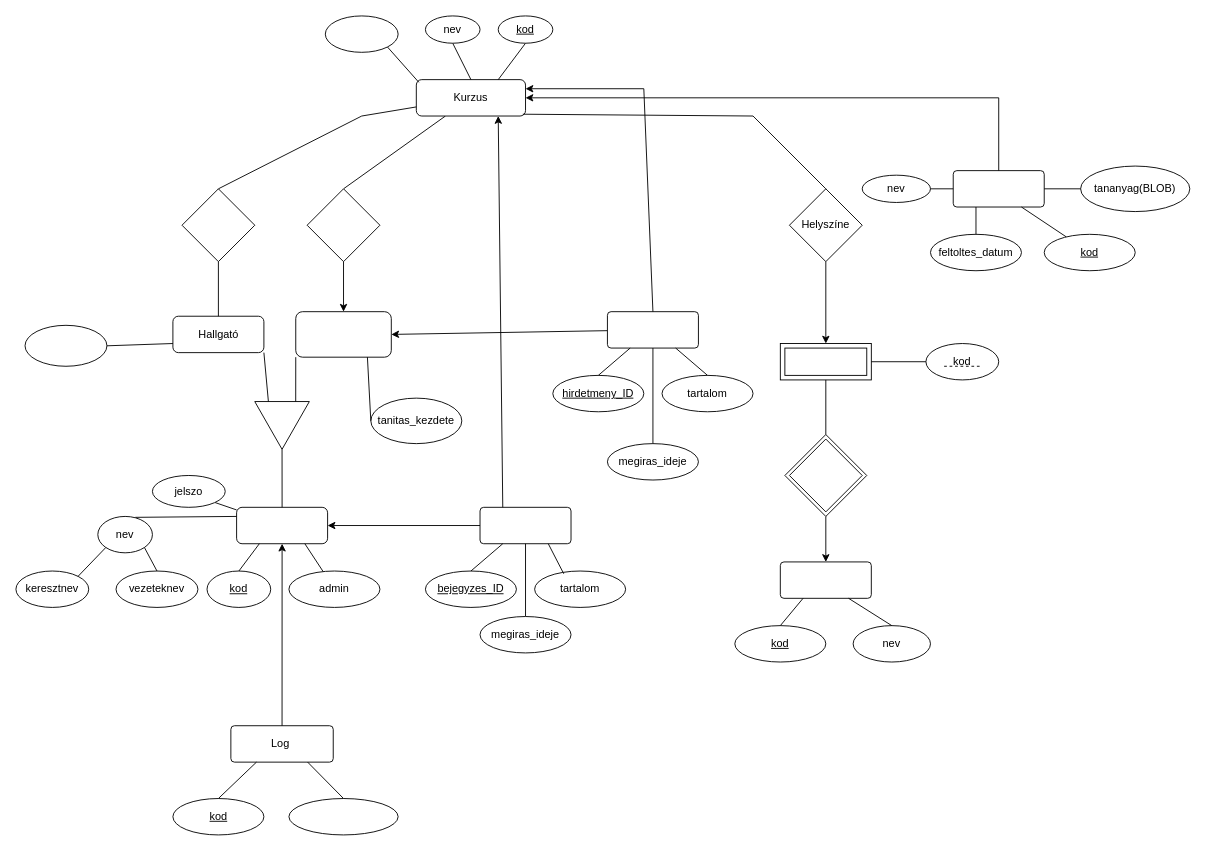
Image size: 1206x851. Some labels were removed from this diagram. Each missing label, with the box of its shape:
Bejegyzés: (479, 506, 571, 544)
bejelentkezesi_ido: (288, 798, 398, 835)
Felhasználó: (236, 506, 328, 544)
Feliratkozas: (181, 188, 255, 262)
Hirdetmény: (607, 311, 698, 348)
max_letszam: (324, 15, 398, 52)
Oktatja: (306, 188, 380, 262)
Oktató: (295, 311, 391, 357)
szemeszter: (24, 324, 107, 366)
Tananyag: (952, 170, 1044, 207)
Terem: (779, 343, 871, 380)
Épület: (779, 561, 871, 598)
Épülete: (789, 438, 862, 512)
